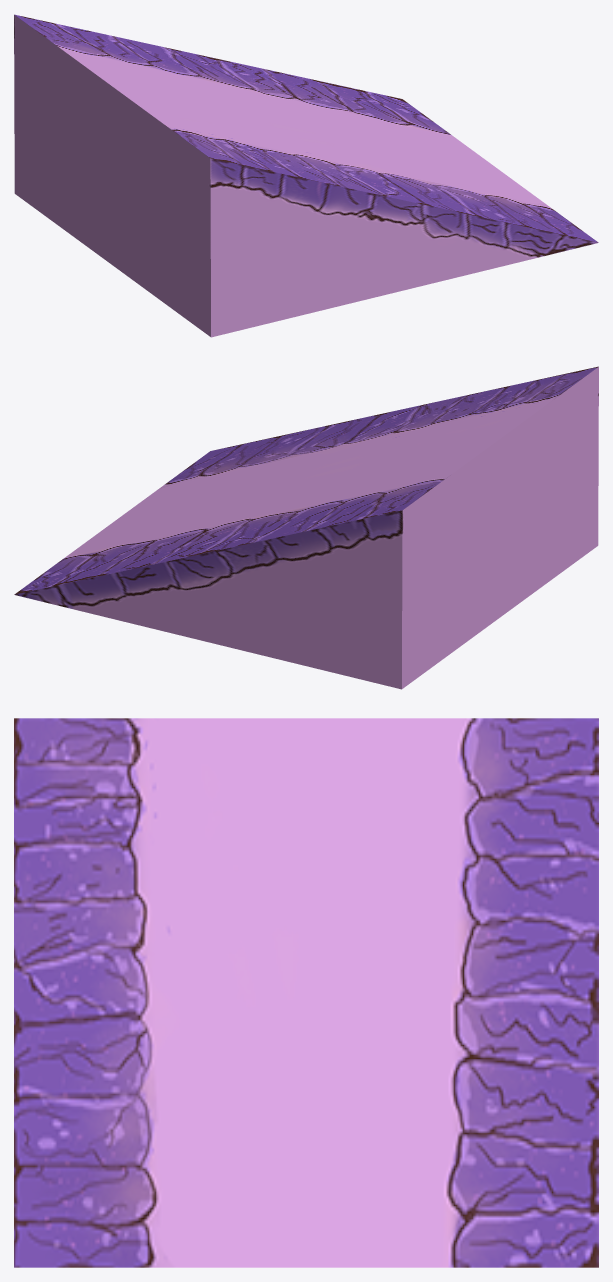
File: Building_Vapor_Ramp_01.glb
3 renders of one model, top to bottom at view 1: azimuth 30°, elevation 25°; view 2: azimuth 150°, elevation 25°; view 3: azimuth 270°, elevation 25°, orthographic. The views are drawn at different scales.
Visible parts, largest first — view 1: Building_Vapor_Ramp_01; view 2: Building_Vapor_Ramp_01; view 3: Building_Vapor_Ramp_01.
Part boxes in pixels (x1=…): Building_Vapor_Ramp_01: x1=14, y1=14, x2=598, y2=337; Building_Vapor_Ramp_01: x1=14, y1=366, x2=598, y2=689; Building_Vapor_Ramp_01: x1=14, y1=718, x2=598, y2=1267.
Bounding box in the file's own units: 5.49 × 2.42 × 4.8.
1 material, 1 textured.
